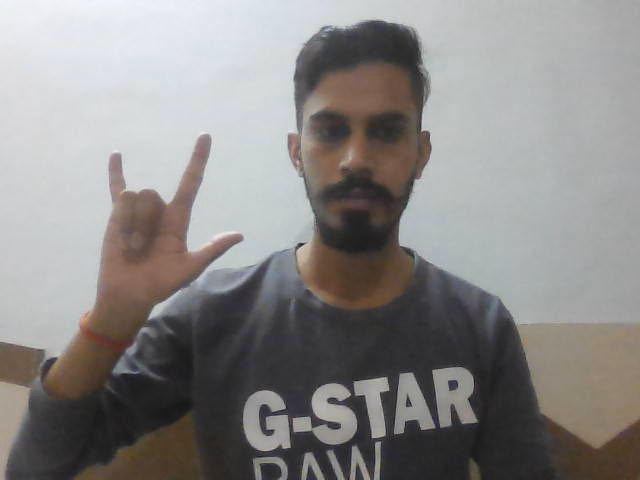ILoveYou: (96, 126, 246, 317)
